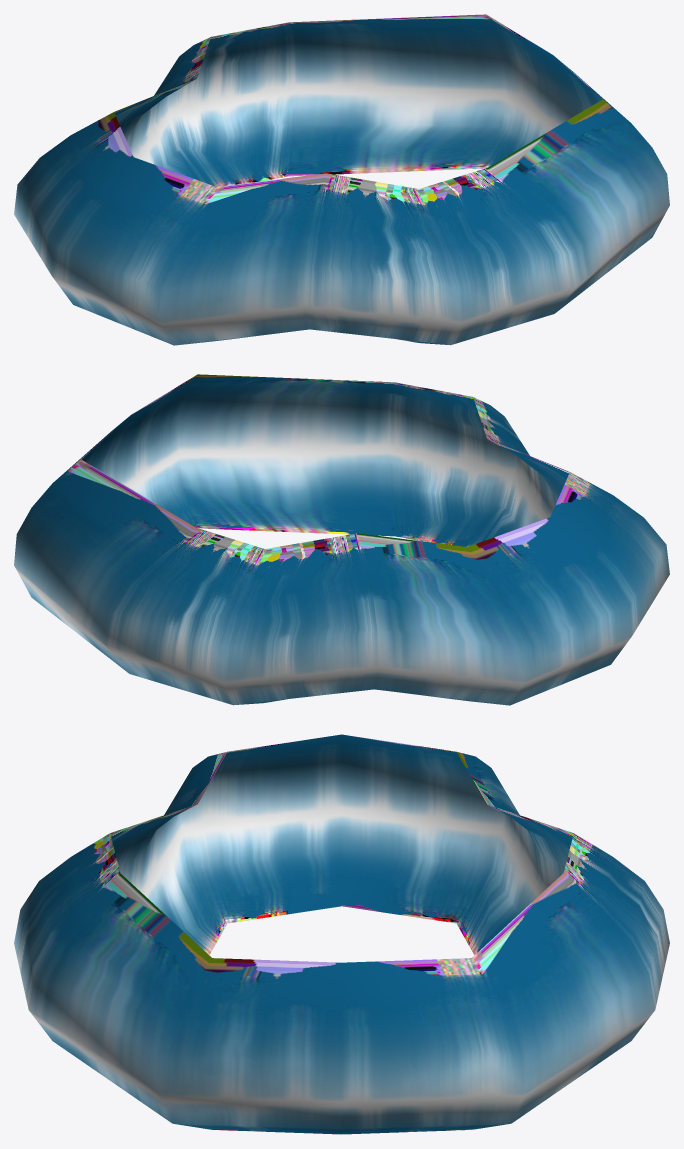
File: constructor_unit_regenerating.obj
The picture shows the model from 3 angles, top to bottom: view 1: azimuth 30°, elevation 25°; view 2: azimuth 150°, elevation 25°; view 3: azimuth 270°, elevation 25°; orthographic projection. The views are drawn at different scales.
Parts seen in each view (by area): view 1: pSphere5; view 2: pSphere5; view 3: pSphere5.
Part boxes in pixels (bbox=[...]): pSphere5: bbox=[14, 14, 669, 345]; pSphere5: bbox=[14, 374, 669, 705]; pSphere5: bbox=[14, 734, 669, 1134].
Bounding box in the file's own units: 49.05 × 13.22 × 45.73.
Materials: 1 (1 with a texture image).
